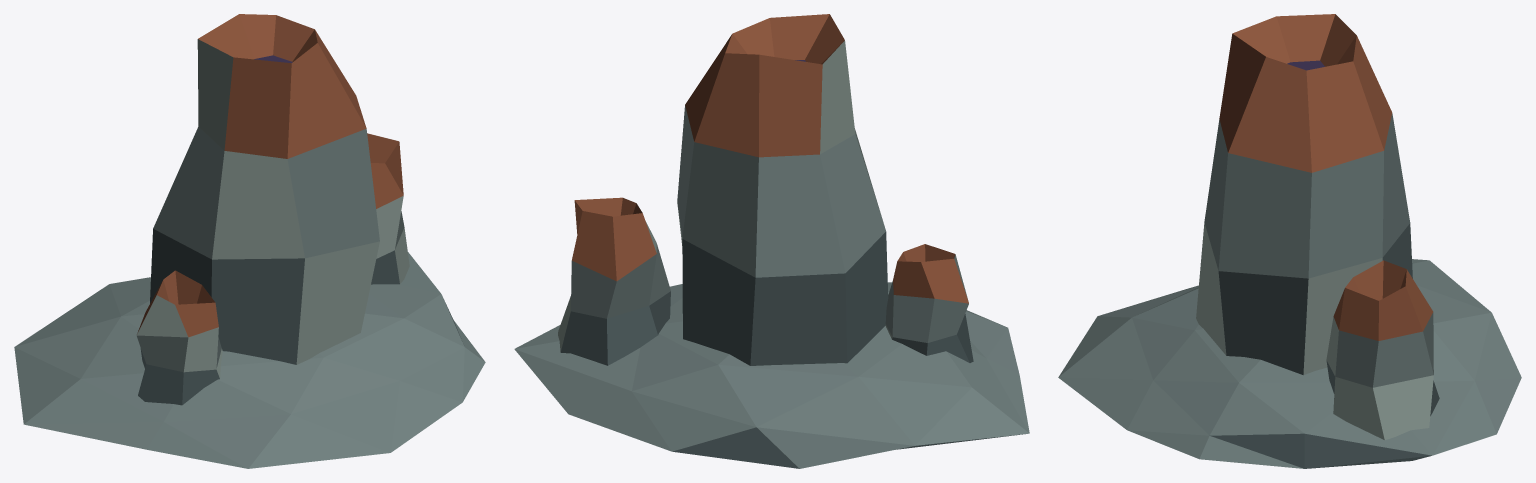
Rendered from bubble_vent.glb.
3 renders of one model, left to right at view 1: azimuth 30°, elevation 25°; view 2: azimuth 150°, elevation 25°; view 3: azimuth 270°, elevation 25°, orthographic. The views are drawn at different scales.
Parts seen in each view (by area): view 1: Body; view 2: Body; view 3: Body.
Boxes of the visible parts, box(x1,y1,x2,y2) form: Body: box(14, 14, 485, 468); Body: box(514, 14, 1029, 468); Body: box(1058, 14, 1521, 468).
Size of the model in its own units: 1.77 by 1.27 by 1.57.
